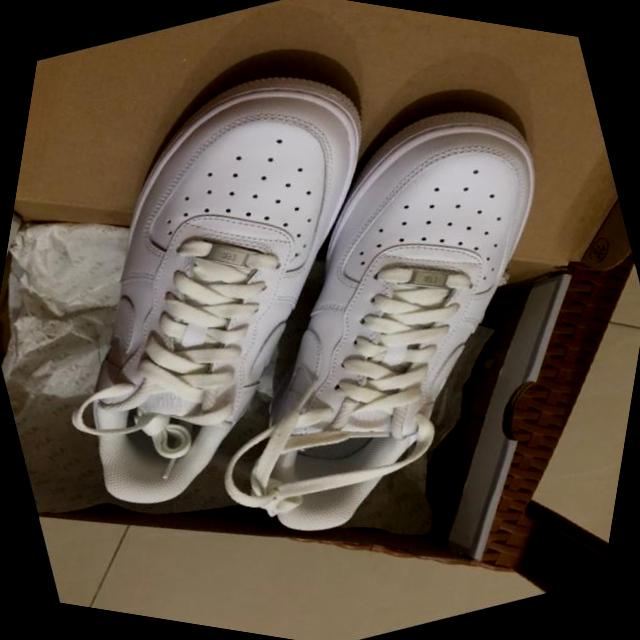nike_original_airforce: (99, 32, 640, 605), (0, 4, 500, 569)
